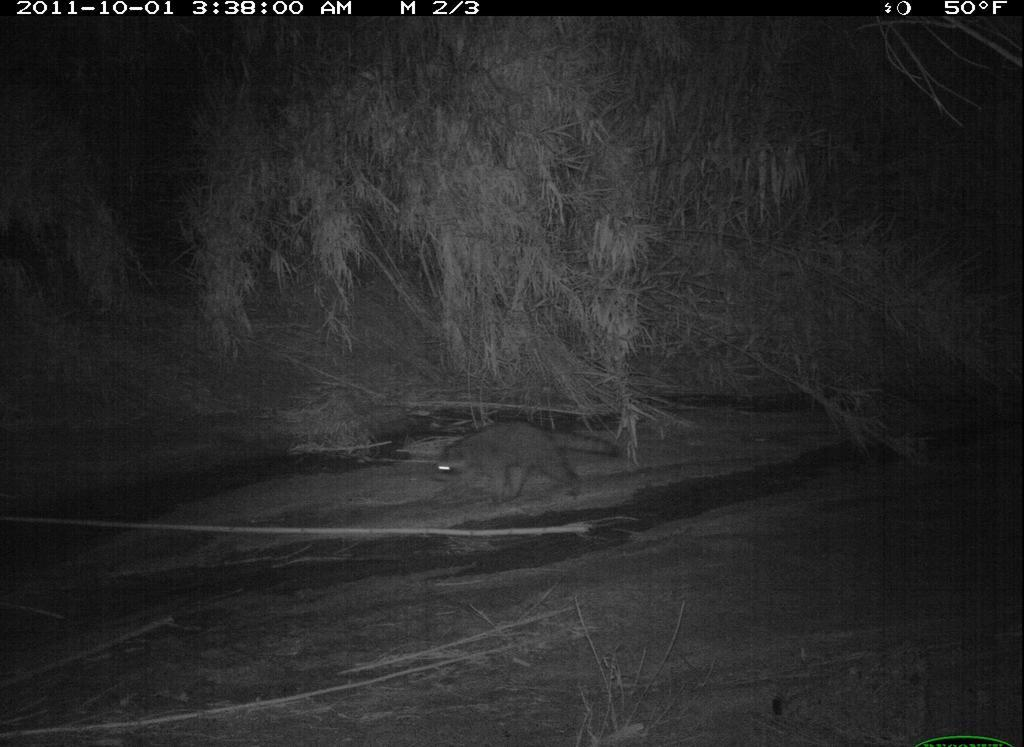raccoon: (432, 415, 628, 511)
